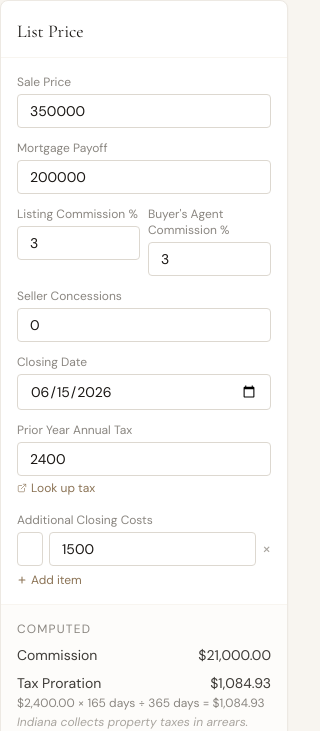
ScenarioCard › adds a new blank closing cost item row when Add Item is clicked
Click the button "Add item": {"x": 49, "y": 580} [17,572,82,588]
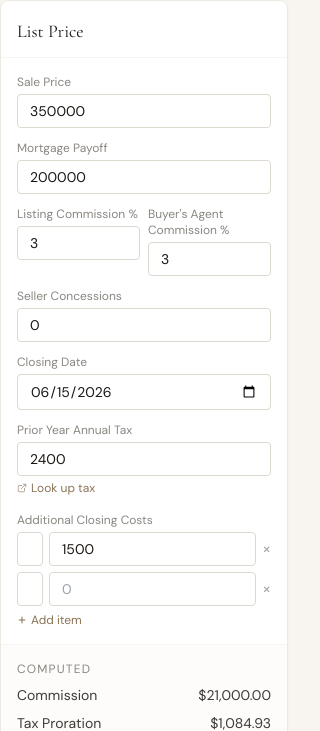
Now the number of fields with placeholder "Item description" is 2, box [17,532,43,566]; [17,572,43,606]
